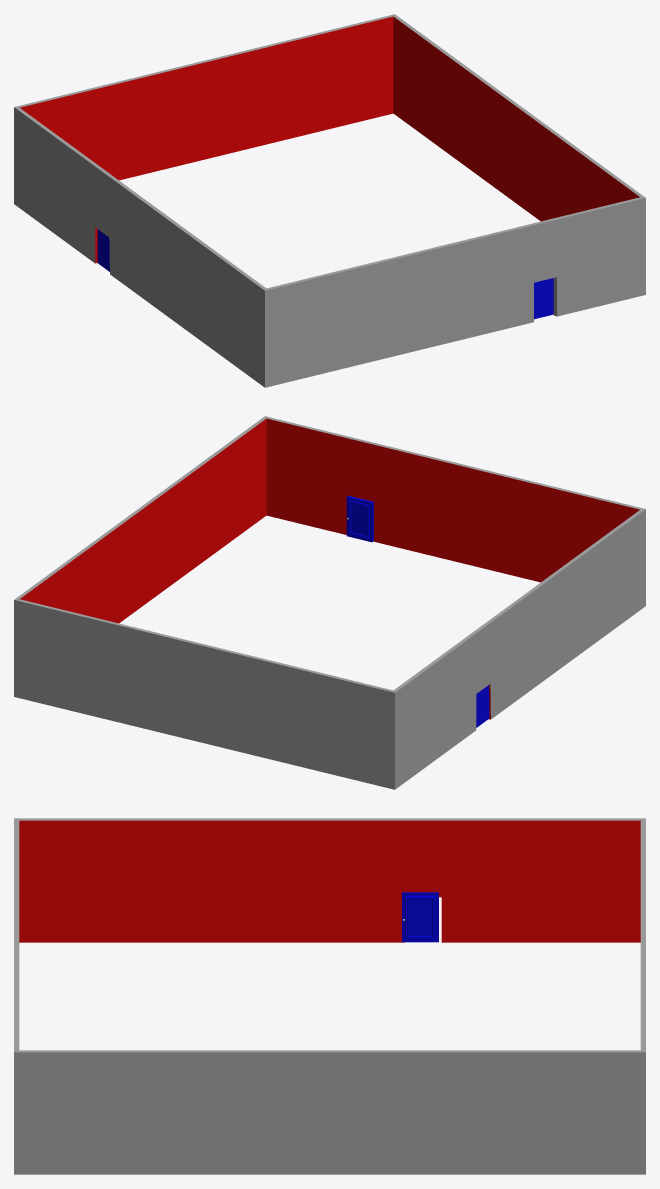
Rendered from kitfin.fbx.
The picture shows the model from 3 angles, top to bottom: view 1: azimuth 30°, elevation 25°; view 2: azimuth 150°, elevation 25°; view 3: azimuth 270°, elevation 25°; orthographic projection. The views are drawn at different scales.
Parts seen in each view (by area): view 1: polySurface8, group3_pCube10; view 2: polySurface8, group3_pCube10; view 3: polySurface8, group2_pCube10.
Part boxes in pixels (<box>): polySurface8: <box>14,14,645,387</box>; group3_pCube10: <box>534,278,553,319</box>; polySurface8: <box>14,416,645,789</box>; group3_pCube10: <box>346,495,373,542</box>; polySurface8: <box>14,818,645,1174</box>; group2_pCube10: <box>402,892,438,942</box>.
Size of the model in its own units: 293 by 71.29 by 334.
